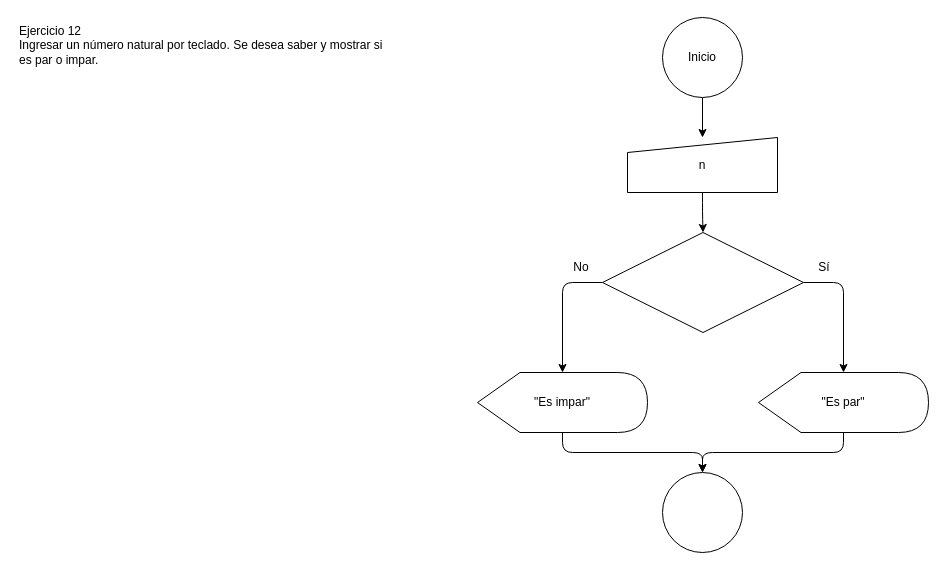
The diagram is 946 pixels wide and 570 high, and some of its shapes have lost their labels. The box of each missing label's shape, as (x1, y1, x2, y2) in pixels:
Fin: (662, 472, 742, 552)
n mod 2 = 0: (602, 232, 804, 332)
